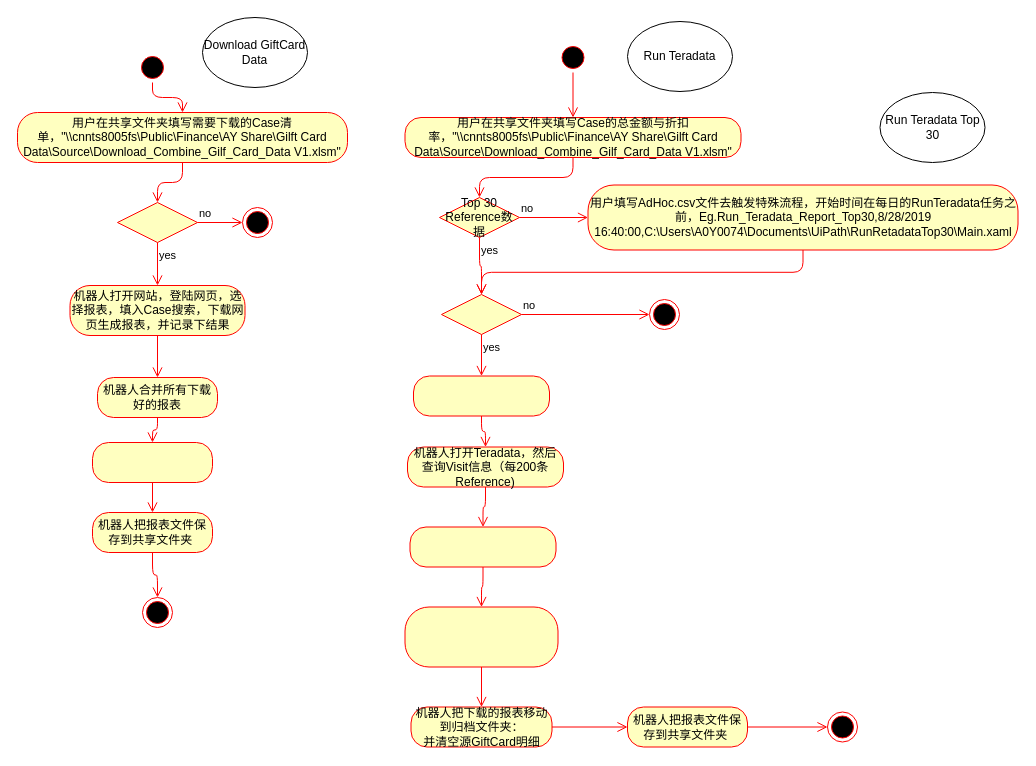
The diagram is 1036 pixels wide and 766 high, and some of its shapes have lost their labels. The centre of each missing label's shape, as x and y in pixels:
Case信息和GiftCard明细 是否已提供: the point at 481,314
是否有需下载的Case: the point at 157,222
机器人导入GiftCard明细，生成Reference清单，或者Top30的Reference清单: the point at 481,395
机器人打开Teradata，然后查询购物信息（每100条Visit）: the point at 482,546
机器人把下载的报表移动到归档文件夹：: the point at 152,462
机器人根据Reference，Visit，和购物信息生成报表1，报表2，Mapping表，和导出源GiftCard明细: the point at 481,636
